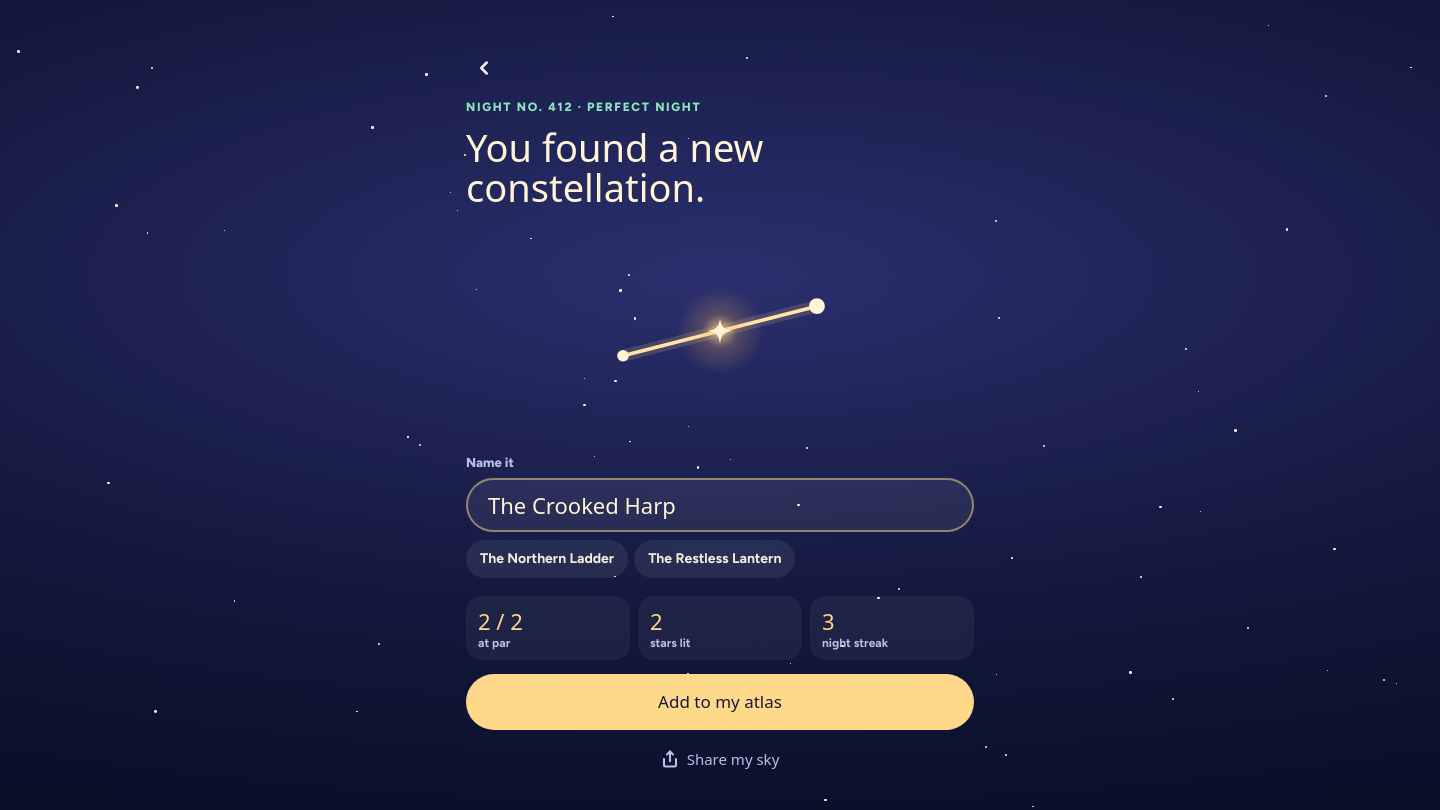
NightChartedScreen › shows what went wrong and stays put when the save fails
The width and height of the screenshot is (1440, 810).
Step 1. Click the button "Add to my atlas" → click(720, 702), box [466,674,974,730]
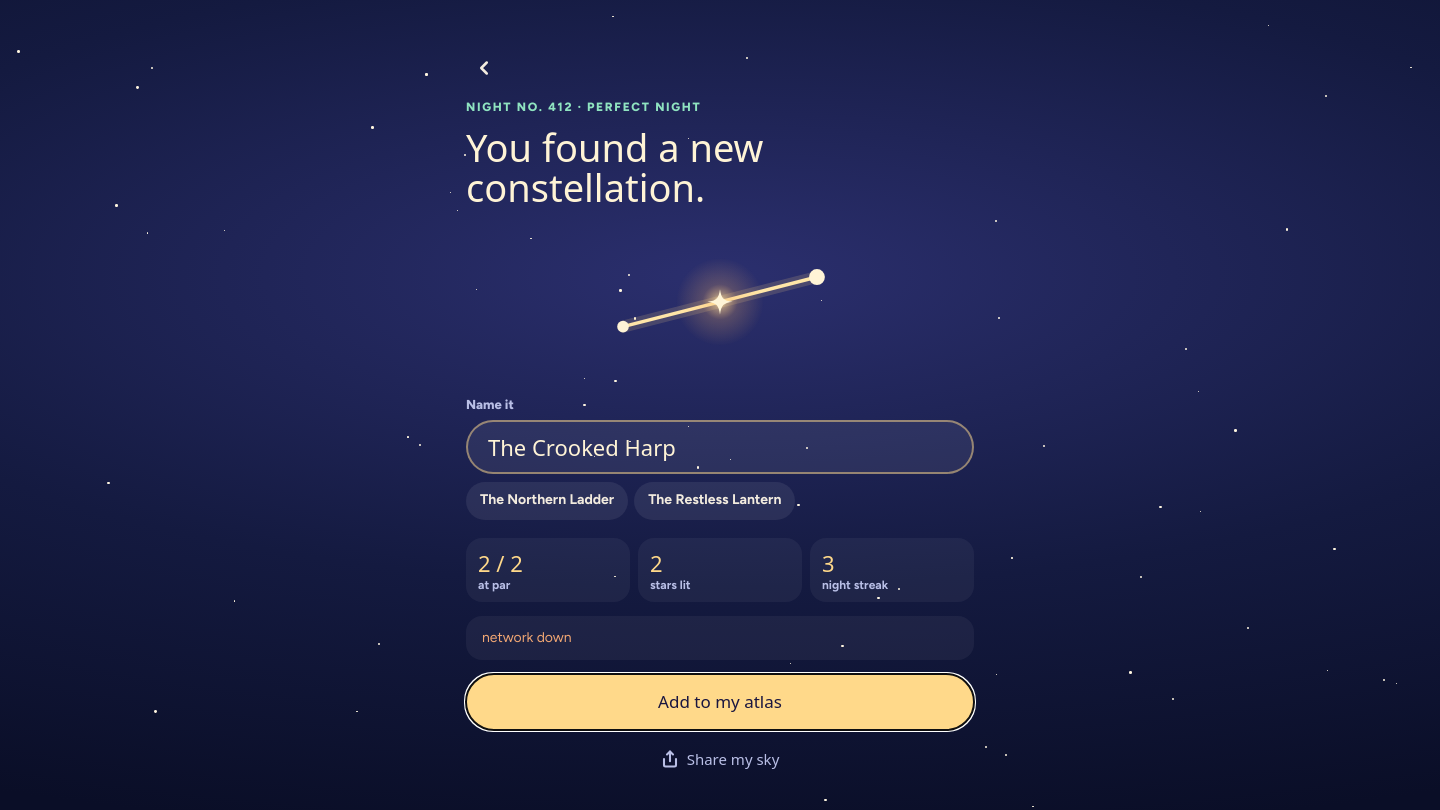
Expected: the message reads "network down", [482,629,572,646]
